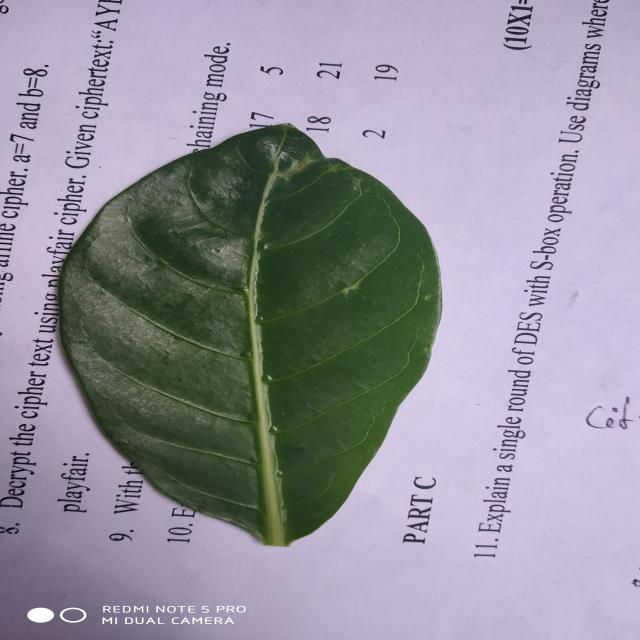nooni: (60, 124, 440, 546)
